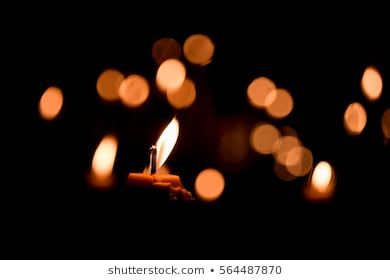Fire: (153, 116, 181, 173)
